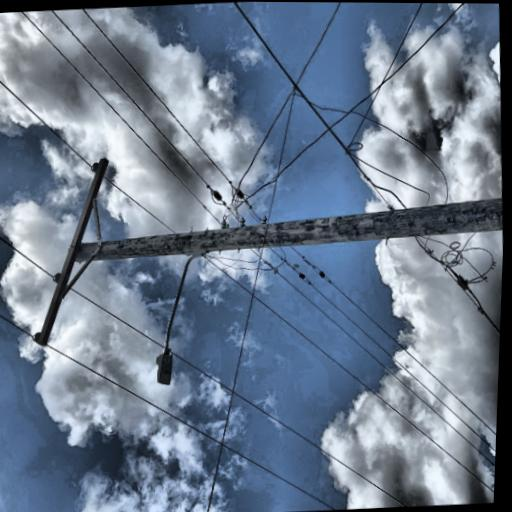insulator: (21, 172, 39, 186), (175, 233, 187, 246), (78, 190, 90, 201)
pole: (87, 211, 165, 512)
street light: (0, 303, 109, 371)
